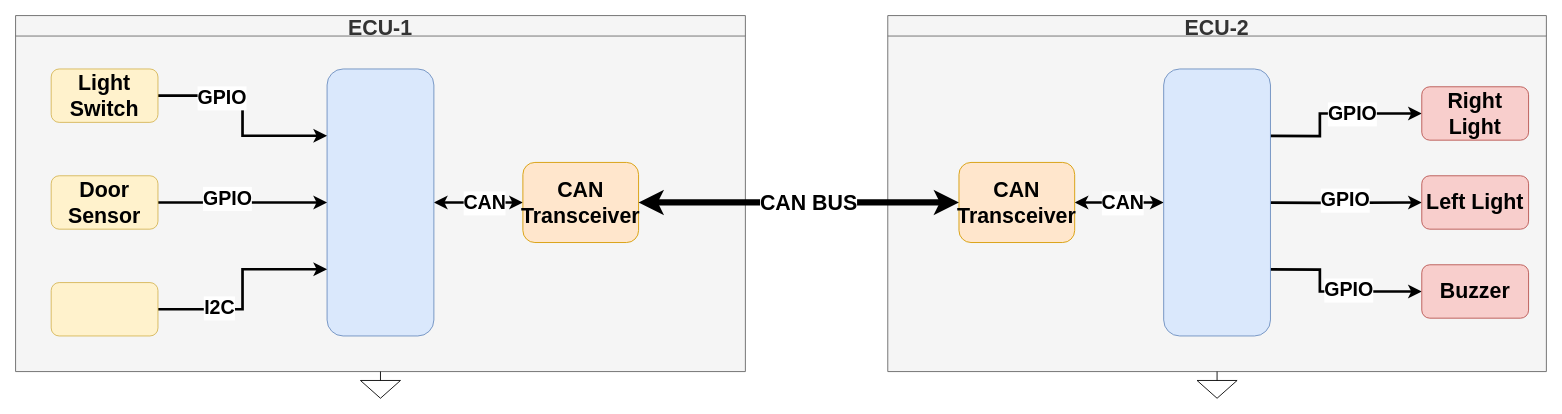
The diagram is 1562 pixels wide and 414 high, and some of its shapes have lost their labels. Each missing label, with the centre of its shape:
MCU-1: the point at 380,202
MCU-2: the point at 1216,202
Speed Sensor: the point at 104,309
